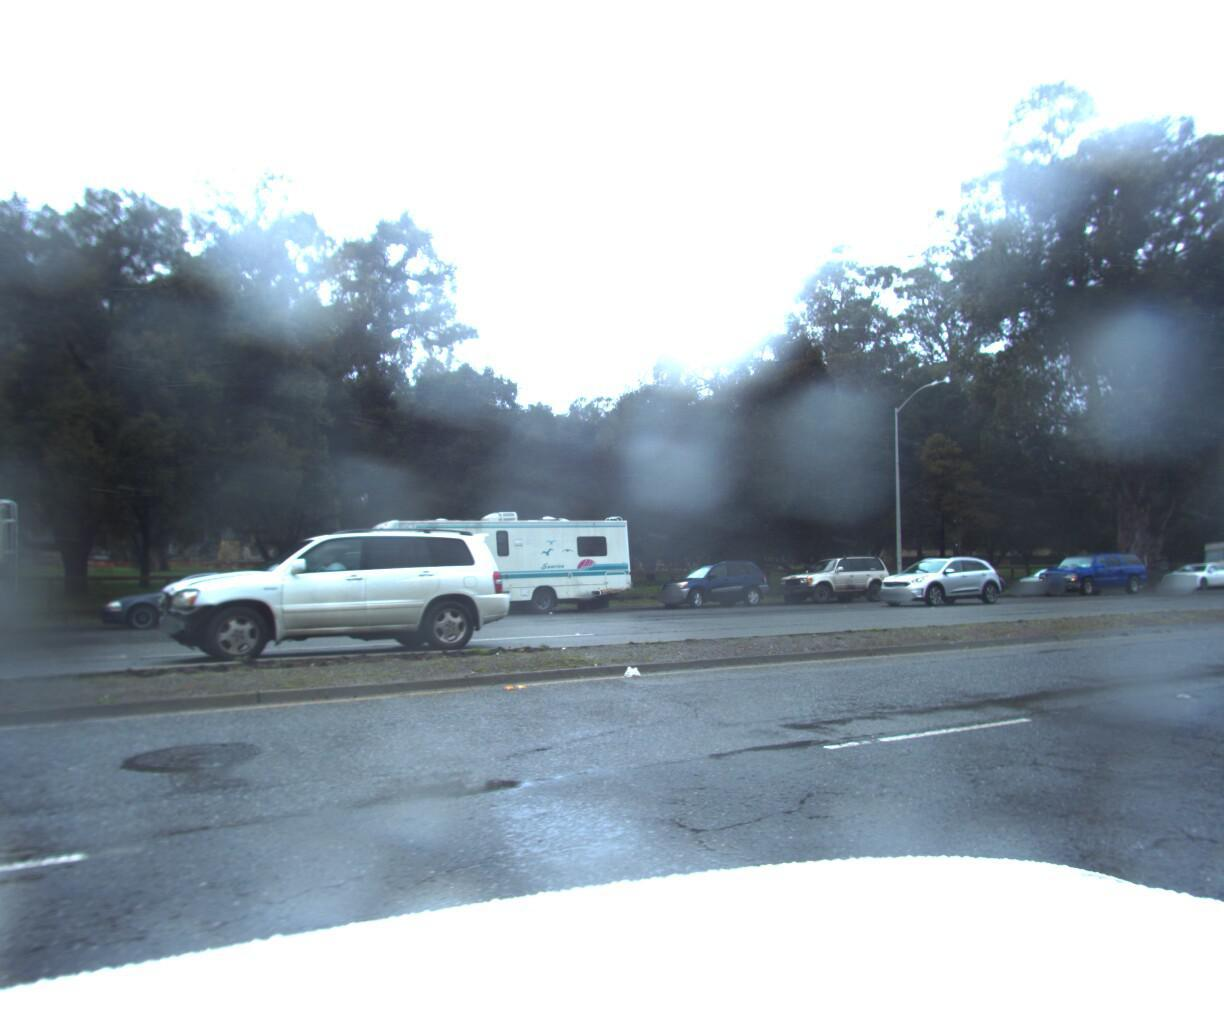car: (152, 520, 511, 674), (91, 569, 304, 637), (868, 551, 1009, 605), (768, 548, 899, 605), (647, 557, 775, 609), (1025, 546, 1148, 594), (1004, 561, 1099, 593), (1149, 559, 1224, 587)
other_vehicle: (333, 500, 640, 623), (0, 461, 28, 677), (1184, 528, 1224, 589)
